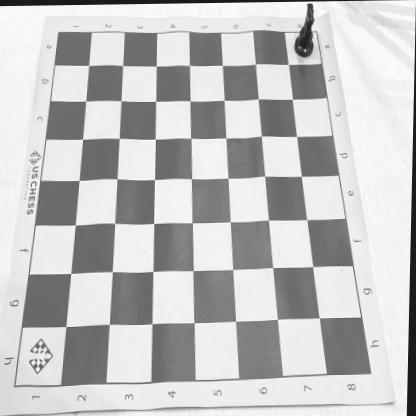black-knight: (294, 3, 315, 58)
